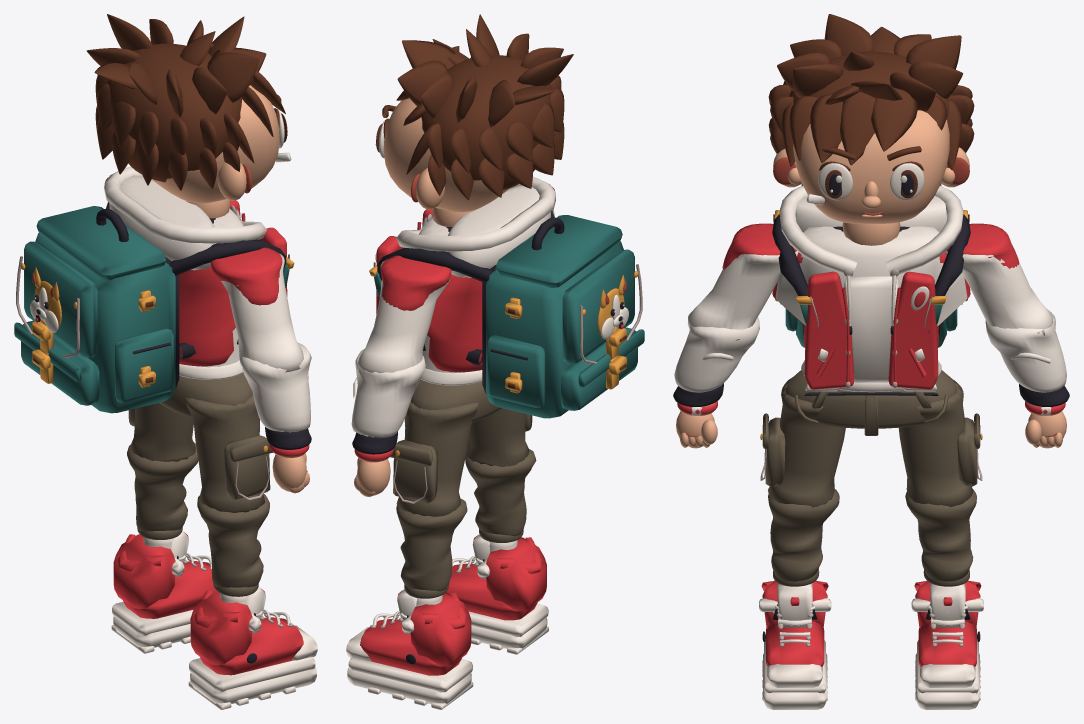
File: char.survivor-male.glb
3 views of the same model, side by side, from view 1: azimuth 30°, elevation 25°; view 2: azimuth 150°, elevation 25°; view 3: azimuth 270°, elevation 25° (orthographic).
Parts seen in each view (by area): view 1: head, backpackSocket_geometry, torso, footR, footL, legR, armR, shinR, foreArmR, shinL, legL, hip (+1 smaller); view 2: head, backpackSocket_geometry, torso, footL, footR, legL, armL, foreArmL, shinL, shinR, legR, hip (+1 smaller); view 3: head, torso, footR, footL, legL, legR, armL, armR, hip, foreArmR, foreArmL, shinR (+4 smaller).
Part boxes in pixels (x1=…): head: x1=86, y1=14, x2=291, y2=203; backpackSocket_geometry: x1=14, y1=206, x2=179, y2=413; torso: x1=104, y1=166, x2=294, y2=379; footR: x1=188, y1=587, x2=317, y2=709; footL: x1=111, y1=531, x2=216, y2=653; legR: x1=185, y1=394, x2=272, y2=512; armR: x1=211, y1=247, x2=303, y2=372; shinR: x1=197, y1=493, x2=269, y2=616; foreArmR: x1=240, y1=343, x2=311, y2=449; shinL: x1=127, y1=442, x2=198, y2=558; legL: x1=128, y1=403, x2=195, y2=461; hip: x1=159, y1=372, x2=252, y2=418; head: x1=375, y1=14, x2=573, y2=212; backpackSocket_geometry: x1=482, y1=215, x2=644, y2=418; torso: x1=369, y1=176, x2=555, y2=385; footL: x1=346, y1=589, x2=473, y2=709; footR: x1=446, y1=534, x2=548, y2=654; legL: x1=390, y1=401, x2=478, y2=516; armL: x1=357, y1=255, x2=451, y2=372; foreArmL: x1=351, y1=348, x2=425, y2=454; shinL: x1=396, y1=498, x2=467, y2=618; shinR: x1=465, y1=449, x2=536, y2=561; legR: x1=466, y1=408, x2=532, y2=466; hip: x1=411, y1=379, x2=501, y2=422; head: x1=768, y1=14, x2=974, y2=223; torso: x1=772, y1=185, x2=970, y2=392; footR: x1=759, y1=580, x2=831, y2=709; footL: x1=911, y1=580, x2=983, y2=709; legL: x1=898, y1=379, x2=982, y2=507; legR: x1=760, y1=378, x2=845, y2=507; armL: x1=945, y1=223, x2=1052, y2=335; armR: x1=687, y1=223, x2=798, y2=340; hip: x1=785, y1=370, x2=957, y2=435; foreArmR: x1=673, y1=317, x2=759, y2=406; foreArmL: x1=985, y1=310, x2=1069, y2=406; shinR: x1=768, y1=489, x2=839, y2=619.
Size of the model in its own units: 0.7027 by 1.8 by 1.02.
